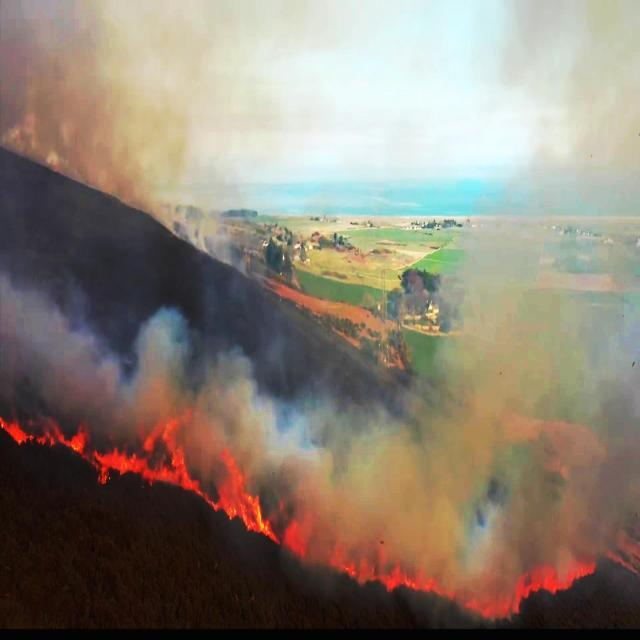Fire: (0, 412, 640, 630)
Smoke: (461, 54, 638, 408), (0, 257, 256, 404)
